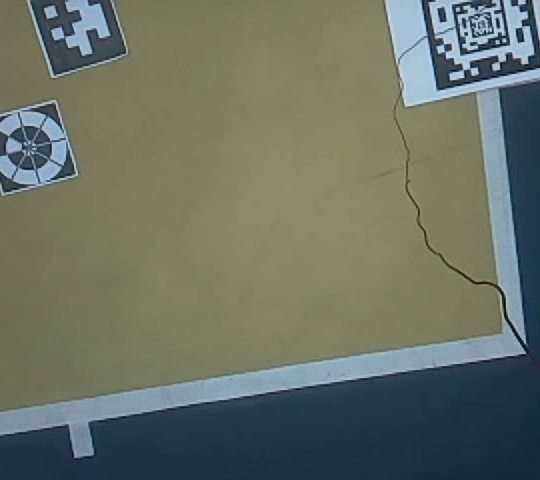landing-zone: (1, 95, 81, 197)
